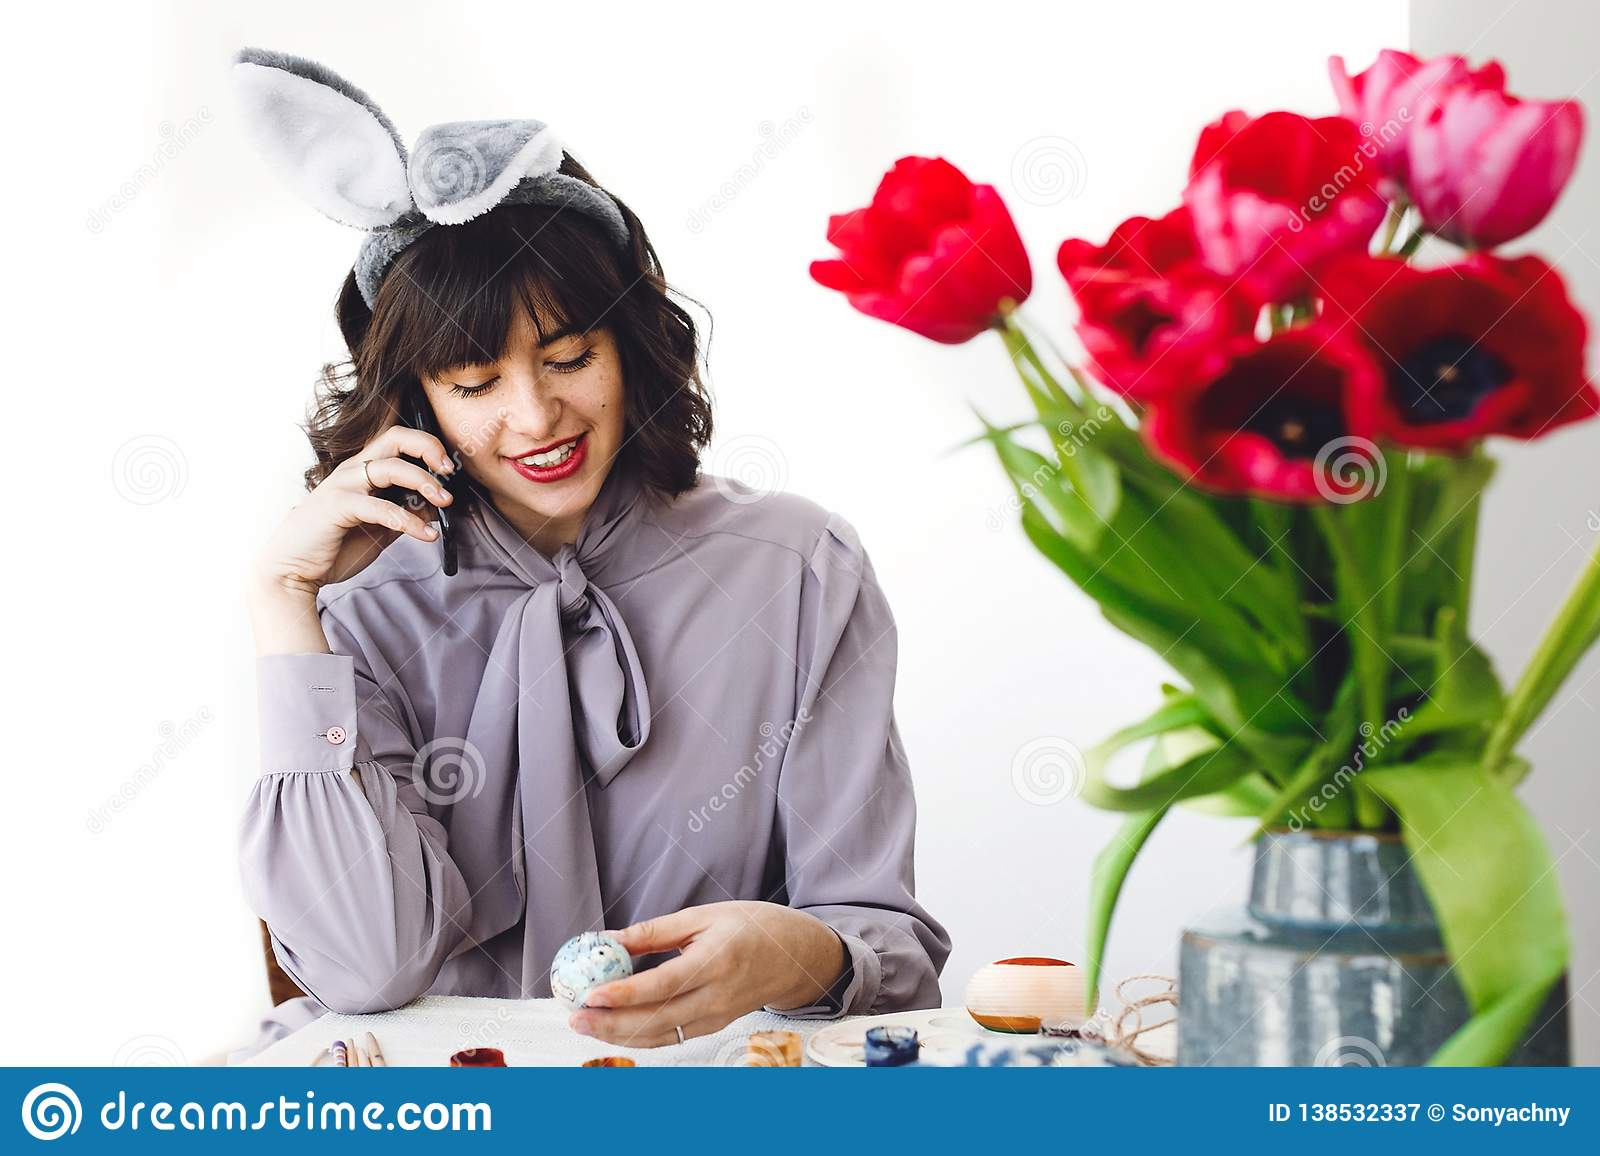phone: (398, 366, 465, 582)
talk: (256, 315, 614, 623)
